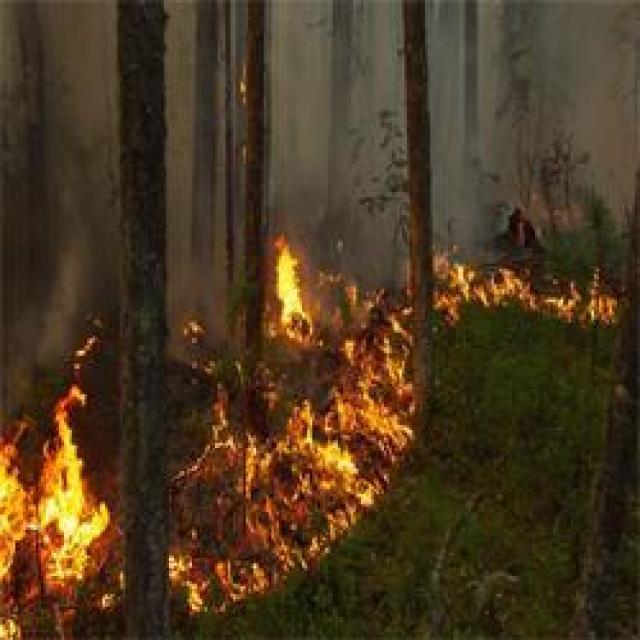Fire: (0, 236, 617, 635)
Smoke: (0, 0, 631, 403)
